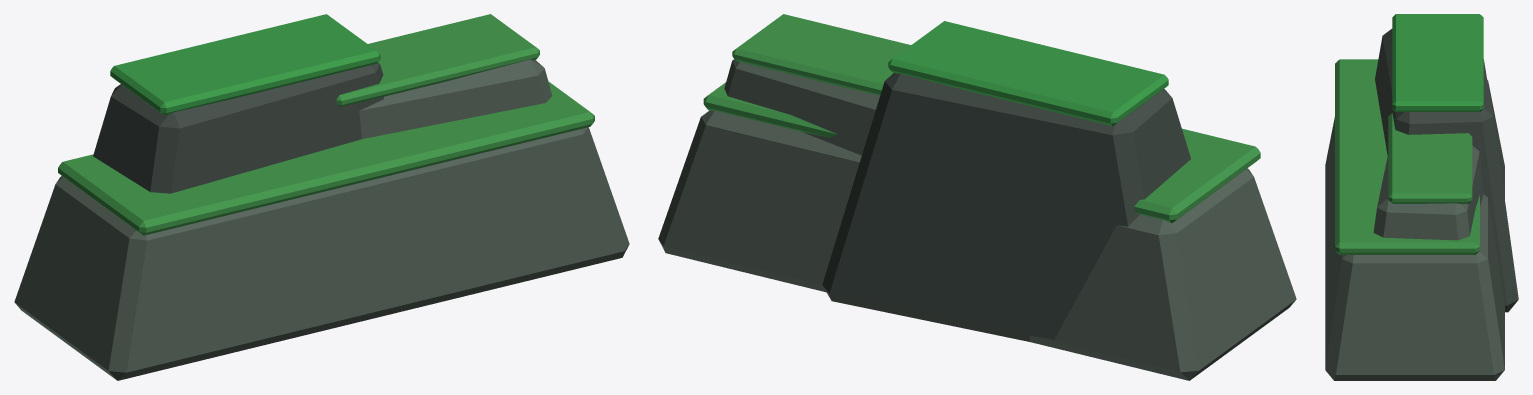
File: EM_PerimeterCliff_Segment.glb
3 views of the same model, side by side, from view 1: azimuth 30°, elevation 25°; view 2: azimuth 150°, elevation 25°; view 3: azimuth 270°, elevation 25° (orthographic). The views are drawn at different scales.
Parts seen in each view (by area): view 1: EM_PerimeterCliff_Segment__CliffRock, EM_PerimeterCliff_Segment__MossCap, EM_PerimeterCliff_Segment__StoneDark, EM_PerimeterCliff_Segment__LeafOak; view 2: EM_PerimeterCliff_Segment__StoneDark, EM_PerimeterCliff_Segment__CliffRock, EM_PerimeterCliff_Segment__MossCap, EM_PerimeterCliff_Segment__LeafOak; view 3: EM_PerimeterCliff_Segment__CliffRock, EM_PerimeterCliff_Segment__MossCap, EM_PerimeterCliff_Segment__LeafOak, EM_PerimeterCliff_Segment__StoneDark.
Part boxes in pixels (x1,y1,x2,y2): EM_PerimeterCliff_Segment__CliffRock: [14, 59, 629, 380]; EM_PerimeterCliff_Segment__MossCap: [58, 14, 594, 235]; EM_PerimeterCliff_Segment__StoneDark: [93, 62, 383, 193]; EM_PerimeterCliff_Segment__LeafOak: [110, 14, 380, 115]; EM_PerimeterCliff_Segment__StoneDark: [822, 73, 1190, 341]; EM_PerimeterCliff_Segment__CliffRock: [658, 59, 1296, 380]; EM_PerimeterCliff_Segment__MossCap: [703, 14, 1260, 223]; EM_PerimeterCliff_Segment__LeafOak: [888, 21, 1168, 126]; EM_PerimeterCliff_Segment__CliffRock: [1325, 80, 1504, 380]; EM_PerimeterCliff_Segment__MossCap: [1335, 59, 1479, 254]; EM_PerimeterCliff_Segment__LeafOak: [1392, 14, 1483, 111]; EM_PerimeterCliff_Segment__StoneDark: [1375, 29, 1518, 312].
Bounding box in the file's own units: 133 × 56.2 × 50.78.
